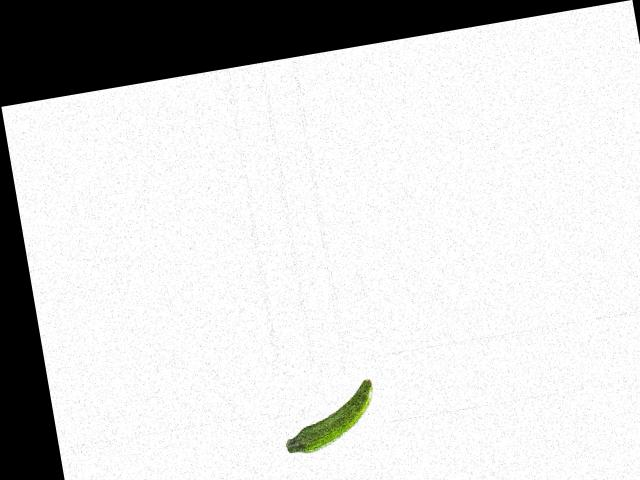cucumber: (276, 377, 381, 456)
